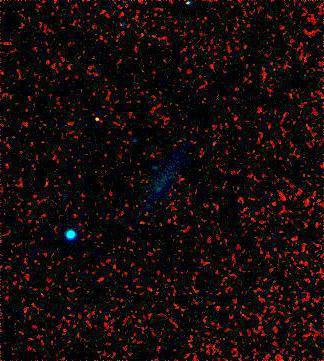star: (83, 104, 113, 134)
